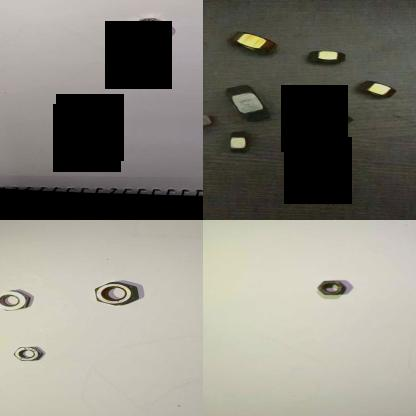NUTS: (218, 85, 272, 122), (302, 103, 364, 131), (225, 28, 291, 54), (90, 279, 140, 309), (350, 75, 400, 103), (302, 47, 355, 72), (221, 128, 254, 156), (286, 138, 330, 159), (314, 278, 350, 300), (0, 288, 31, 312), (8, 344, 44, 363), (132, 16, 166, 34)
